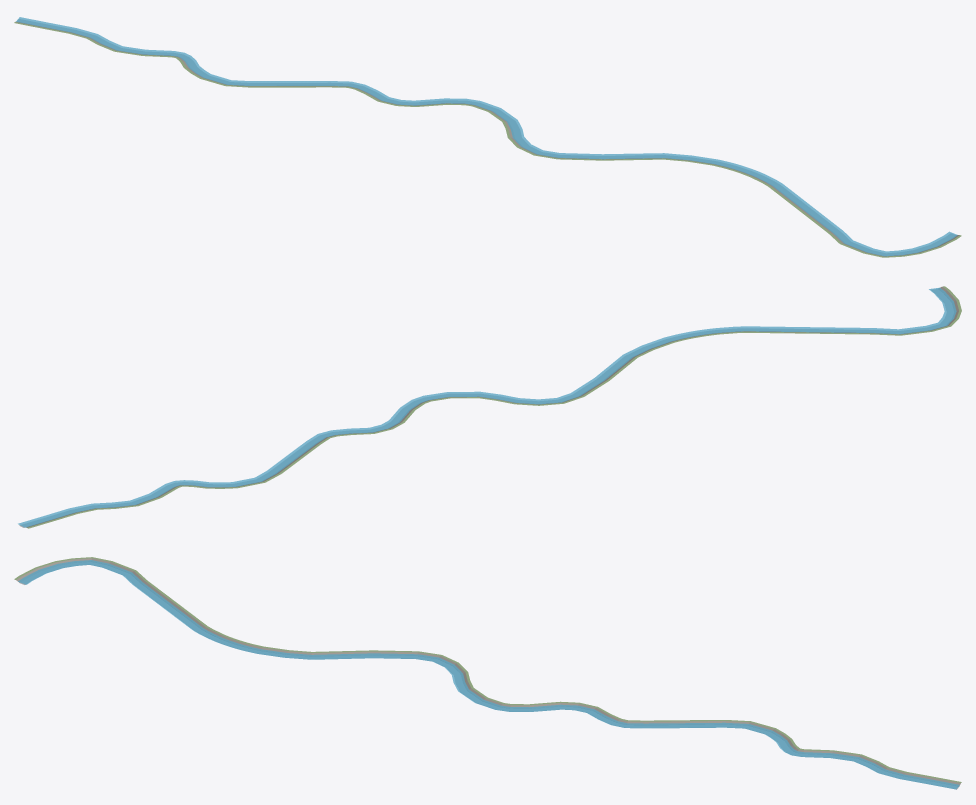
Rendered from corridor-08.glb.
3 views of the same model, one above another, from view 1: azimuth 90°, elevation 25°; view 2: azimuth 150°, elevation 25°; view 3: azimuth 270°, elevation 25° (orthographic).
Visible parts, largest first — view 1: water_water, concreteDark_terrain, grass_terrain, rock_terrain; view 2: water_water, concreteDark_terrain, grass_terrain, rock_terrain; view 3: water_water, rock_terrain, concreteDark_terrain, grass_terrain.
Boxes of the visible parts, x1,y1,x2,y2 form: water_water: [16, 17, 957, 256]; concreteDark_terrain: [18, 19, 955, 255]; grass_terrain: [14, 22, 961, 257]; rock_terrain: [15, 21, 959, 256]; water_water: [18, 287, 956, 527]; concreteDark_terrain: [19, 289, 953, 527]; grass_terrain: [27, 286, 961, 528]; rock_terrain: [26, 286, 958, 527]; water_water: [18, 560, 959, 789]; rock_terrain: [16, 558, 960, 786]; concreteDark_terrain: [20, 562, 959, 789]; grass_terrain: [14, 557, 961, 782].
Size of the model in its own units: 6130 by 80.49 by 10288.
Materials: 4 (4 with a texture image).
